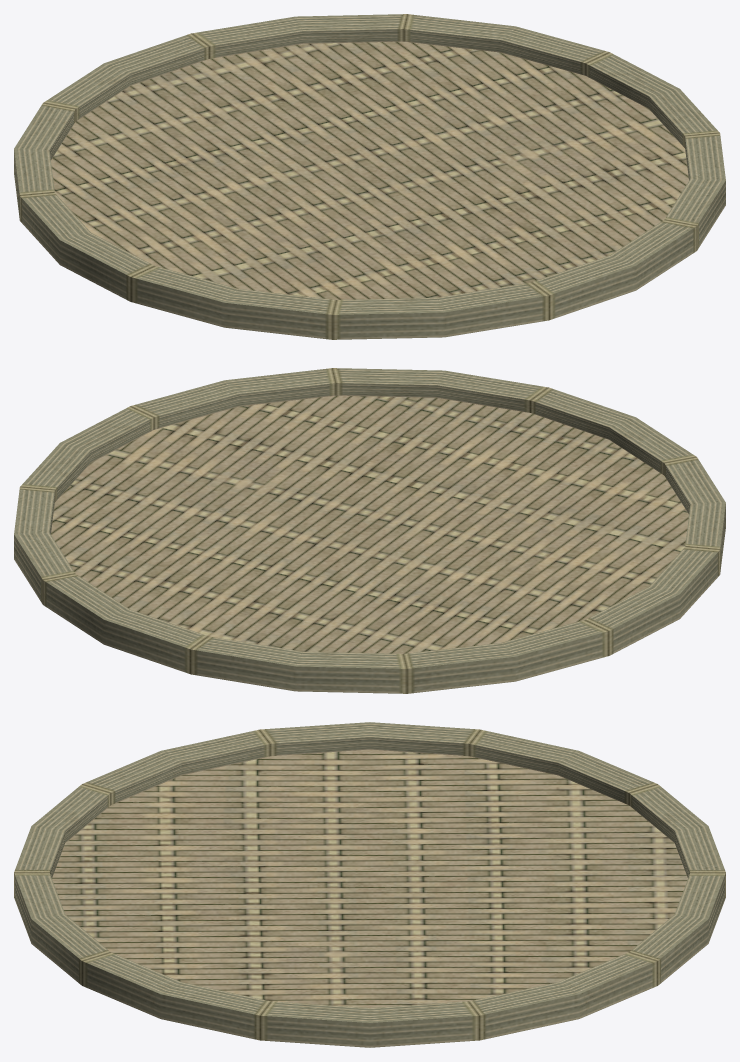
File: takekago01.fbx
3 renders of one model, top to bottom at view 1: azimuth 30°, elevation 25°; view 2: azimuth 150°, elevation 25°; view 3: azimuth 270°, elevation 25°, orthographic.
Parts seen in each view (by area): view 1: pCylinder1; view 2: pCylinder1; view 3: pCylinder1.
Part boxes in pixels (x1,y1,x2,y2): pCylinder1: [14, 14, 725, 339]; pCylinder1: [14, 368, 725, 693]; pCylinder1: [14, 722, 725, 1047].
Size of the model in its own units: 0.52 by 0.02 by 0.52.
